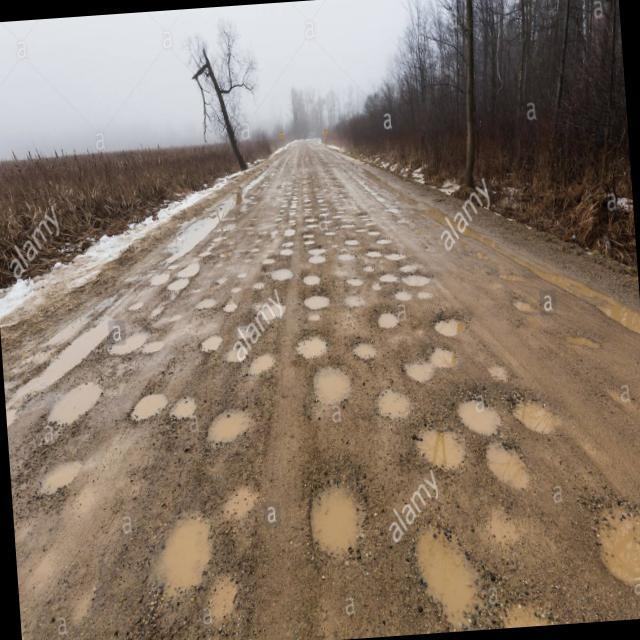Pothole: (6, 273, 145, 433), (401, 510, 494, 634), (120, 492, 222, 601), (294, 455, 376, 560), (573, 489, 640, 597), (188, 386, 266, 451), (20, 444, 95, 506), (161, 202, 231, 268), (186, 554, 248, 628), (448, 379, 520, 442), (482, 440, 548, 507), (490, 579, 578, 629), (502, 382, 566, 448), (410, 421, 478, 478), (210, 466, 278, 522), (42, 380, 126, 420), (290, 326, 356, 370), (122, 381, 184, 422), (373, 383, 422, 428), (431, 303, 481, 343), (426, 326, 472, 369), (371, 301, 419, 342), (402, 350, 447, 393), (172, 388, 215, 433), (310, 362, 355, 404), (454, 235, 502, 274), (589, 366, 631, 410), (506, 290, 548, 334), (223, 330, 263, 374), (110, 326, 158, 362), (246, 343, 283, 385), (192, 320, 236, 352), (352, 336, 391, 368), (139, 296, 180, 324), (402, 268, 441, 296), (250, 300, 292, 326), (568, 324, 604, 354), (394, 281, 419, 310), (296, 290, 334, 309), (378, 194, 408, 217), (142, 337, 170, 361), (154, 316, 188, 335), (249, 276, 275, 300), (298, 270, 328, 290), (304, 252, 335, 270), (497, 268, 517, 295), (192, 300, 222, 318), (335, 239, 358, 262), (220, 298, 242, 322), (150, 268, 172, 290), (129, 299, 151, 320), (363, 244, 386, 264), (384, 249, 414, 263), (164, 280, 194, 294), (343, 274, 367, 291), (269, 266, 292, 283), (374, 269, 394, 288), (304, 245, 332, 258), (357, 257, 377, 274), (277, 245, 299, 260), (230, 266, 256, 278), (301, 236, 325, 248), (308, 312, 336, 322), (183, 262, 200, 278), (258, 253, 279, 265), (375, 235, 400, 245), (214, 274, 234, 286), (352, 225, 374, 235), (322, 227, 341, 237), (365, 228, 390, 235), (229, 286, 245, 292)
